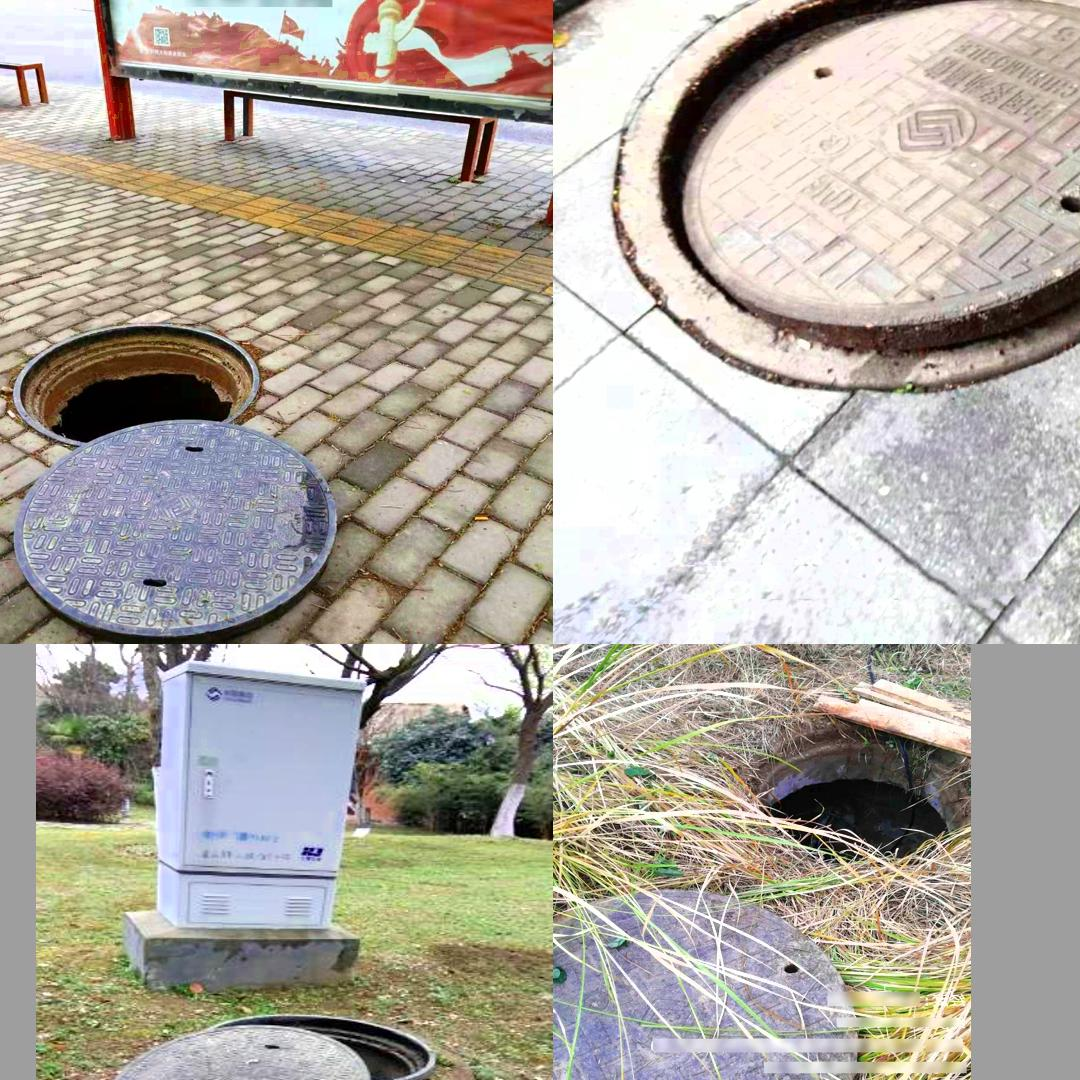uncovered: (613, 0, 1080, 387), (565, 711, 960, 1080), (10, 321, 339, 636), (105, 1010, 438, 1080)
